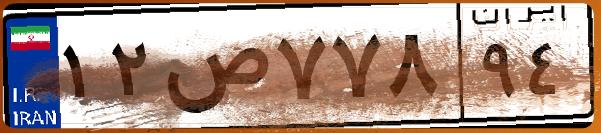1: (57, 26, 110, 100)
2: (110, 28, 158, 98)
4: (525, 38, 570, 115)
7: (270, 28, 330, 110), (330, 28, 385, 110)
8: (385, 28, 445, 110)
9: (475, 38, 525, 113)
ص: (158, 20, 270, 120)
